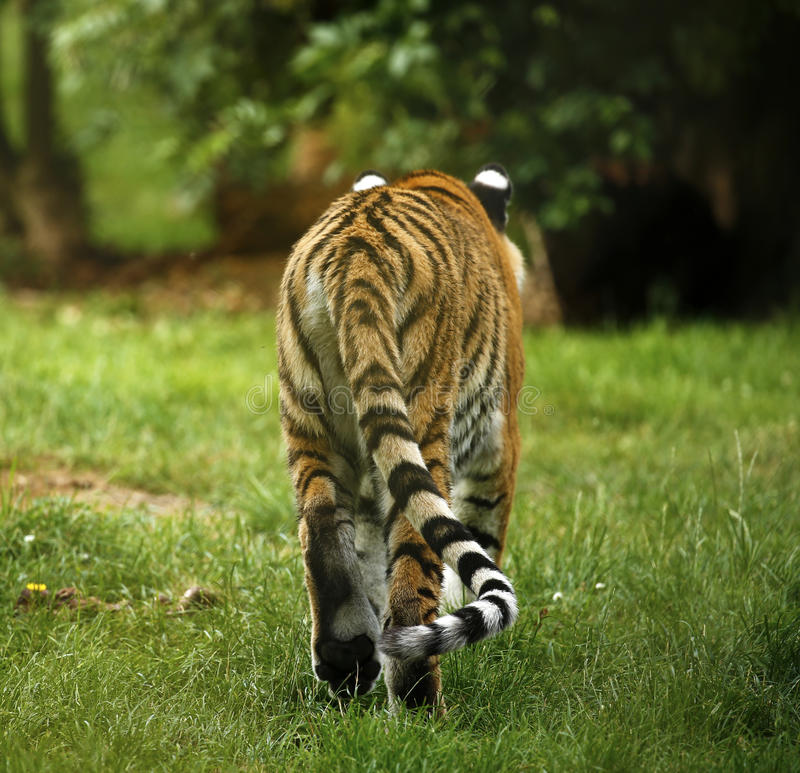tiger: (275, 161, 528, 715)
